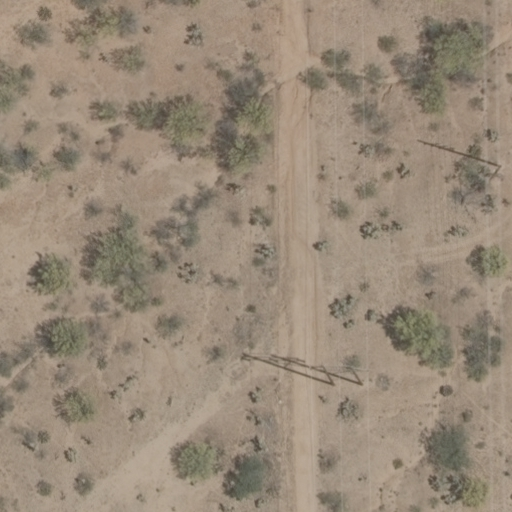DT: (300, 358, 381, 392), (481, 156, 508, 187)
